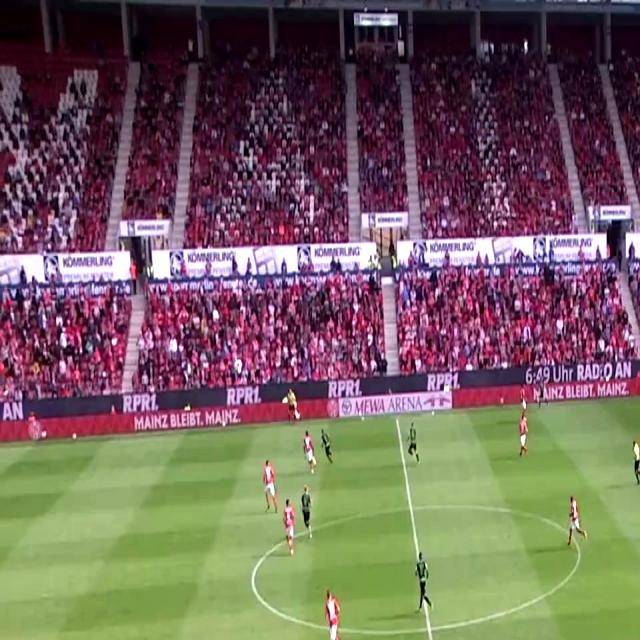referee: (627, 434, 640, 488)
soccer-player: (412, 542, 438, 617), (276, 496, 303, 563), (563, 491, 591, 553), (321, 585, 351, 640), (260, 456, 284, 517), (400, 416, 427, 470), (295, 482, 318, 543), (298, 424, 322, 474), (514, 407, 532, 461)
